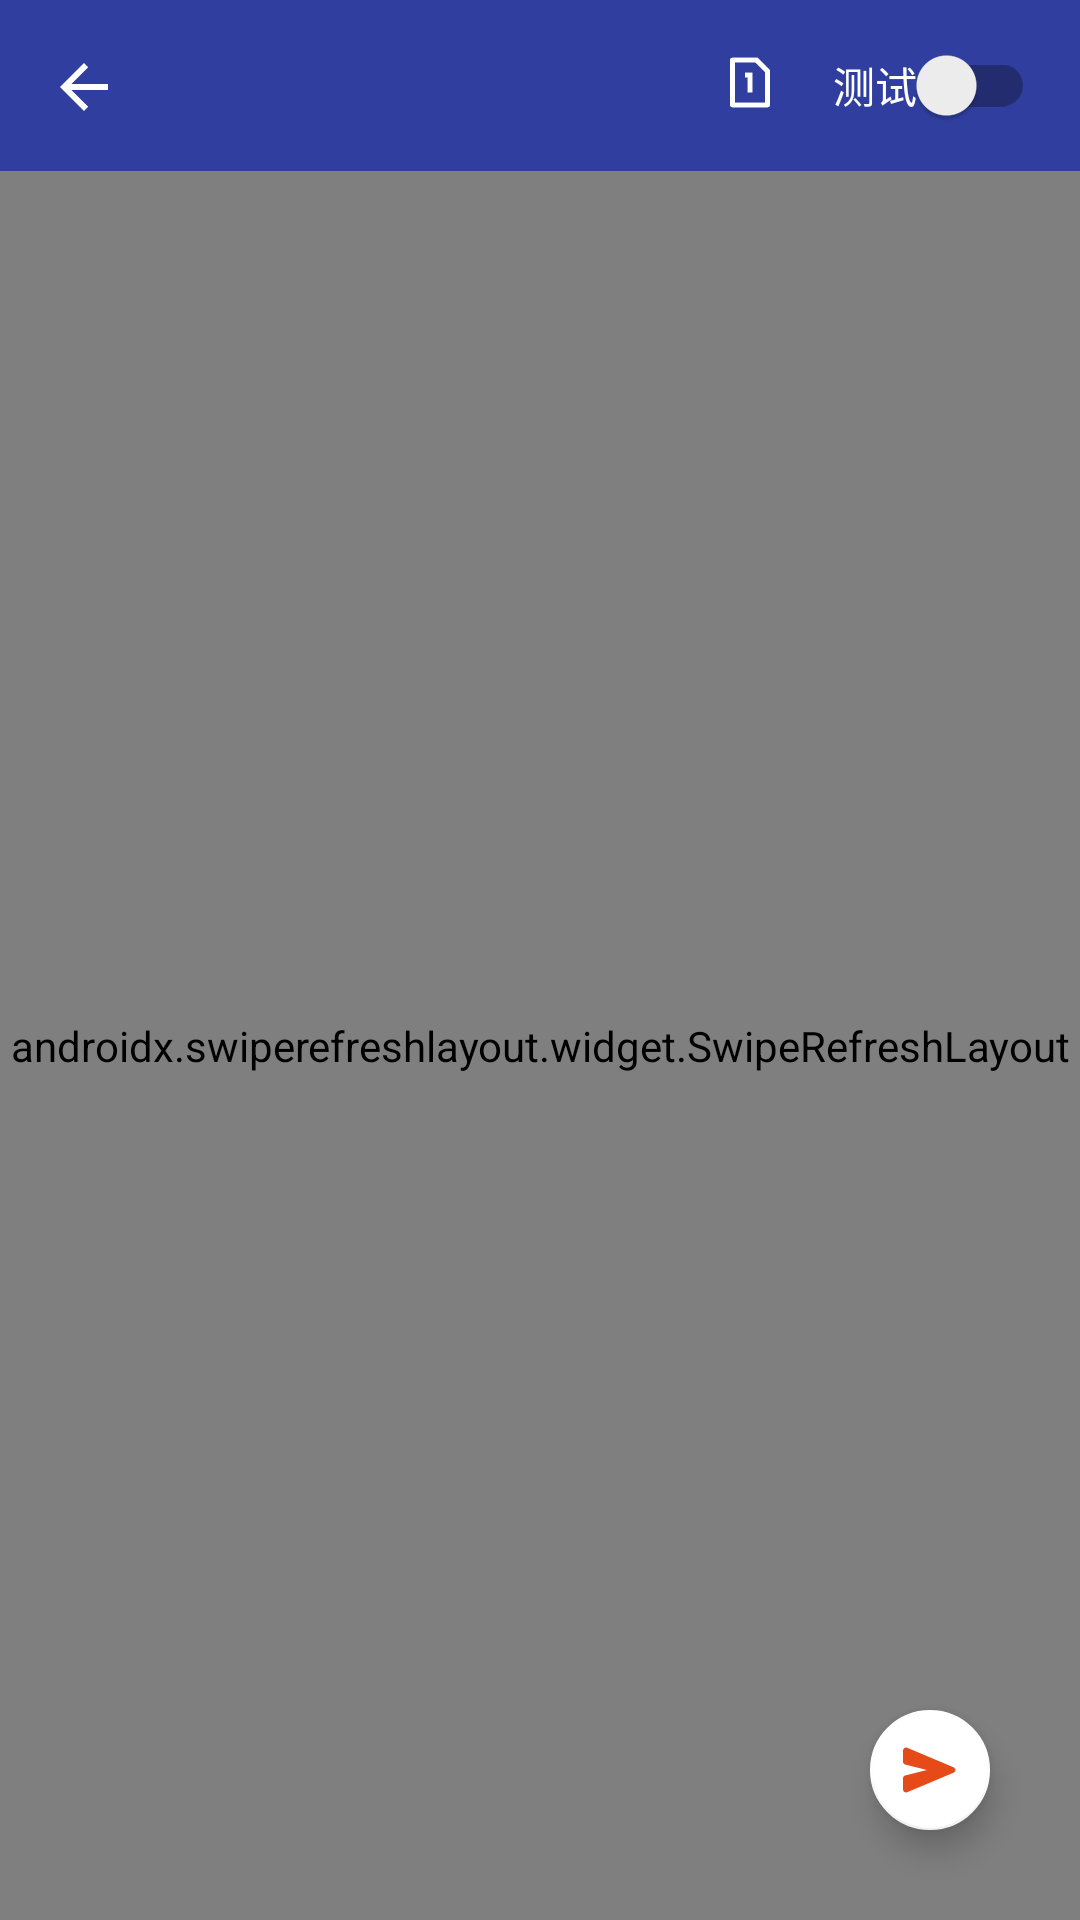

Locate icon controls on the screen. Image size 1080px×1920px, boxes as (x1, y1, x2, y2).
dual sim one line: (730, 57, 770, 108)
send deep: (870, 1710, 990, 1830)
